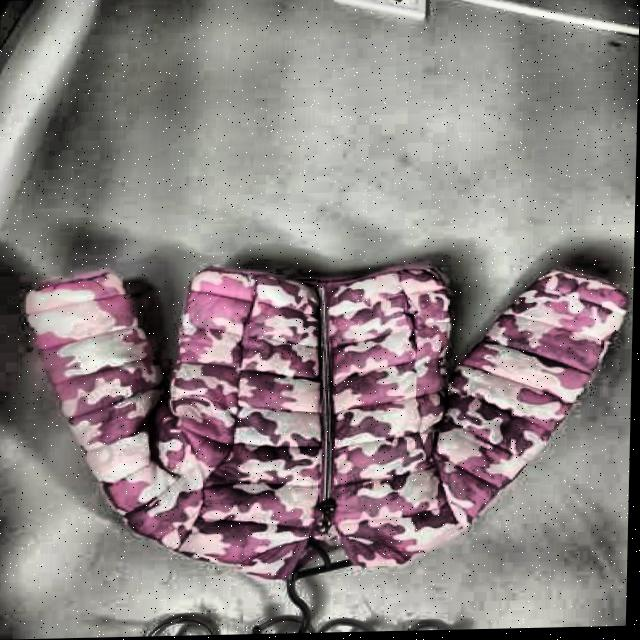clothes: (4, 258, 629, 586)
